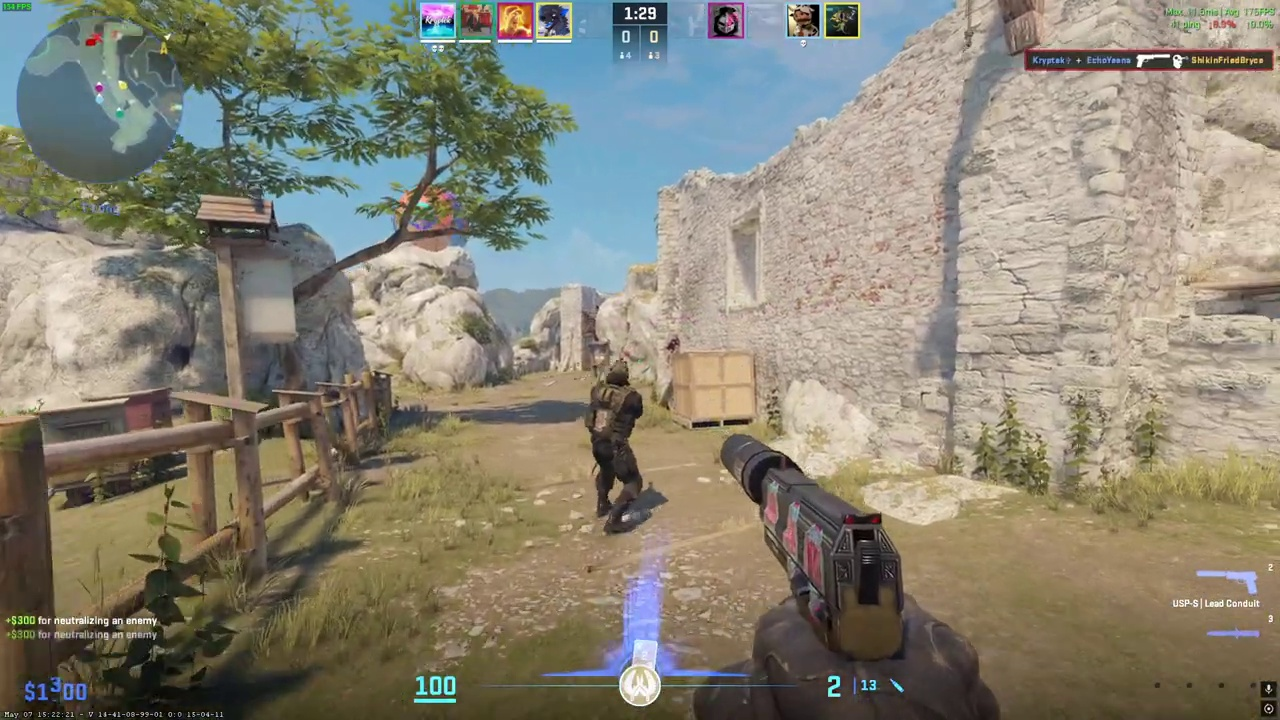CT: (587, 362, 643, 531)
